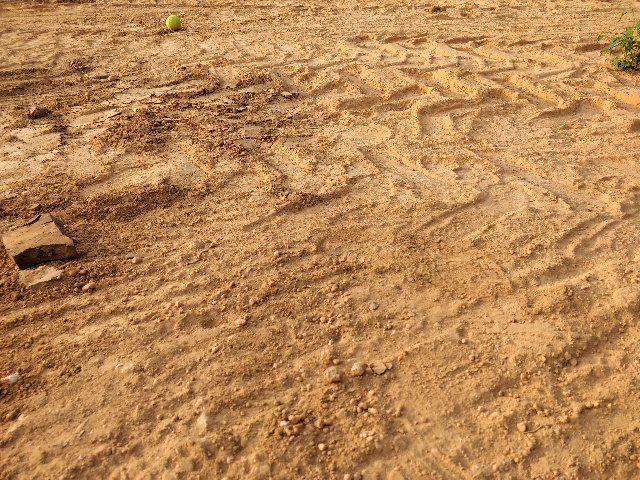ball: (164, 13, 184, 31)
